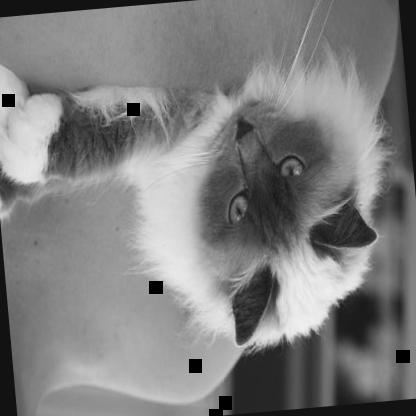cat: (0, 49, 395, 373)
